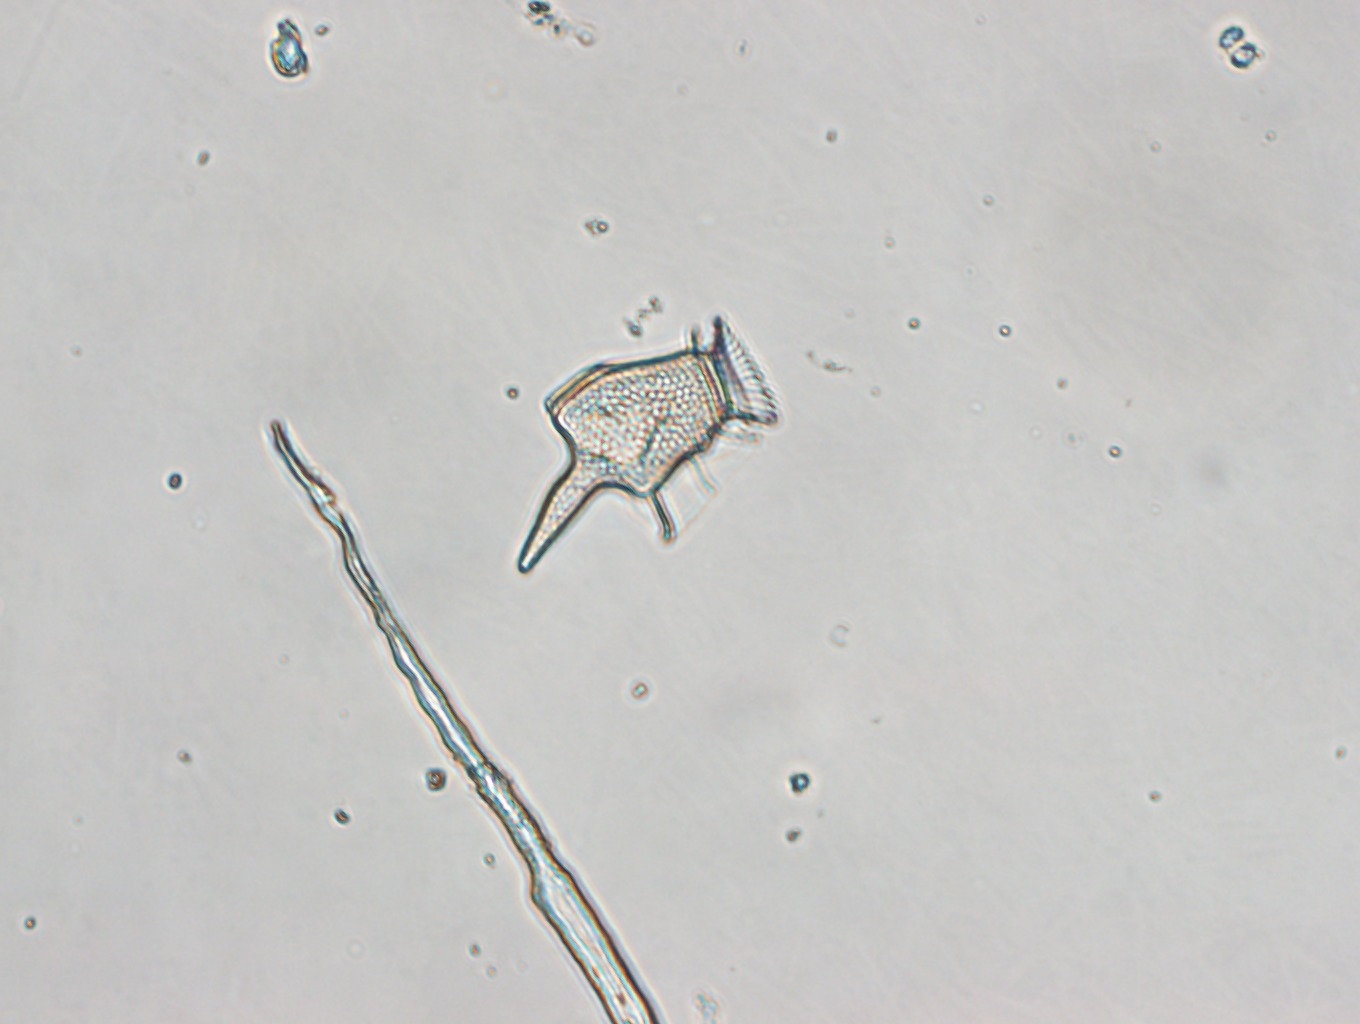dinophysis caudata: (509, 317, 786, 577)
